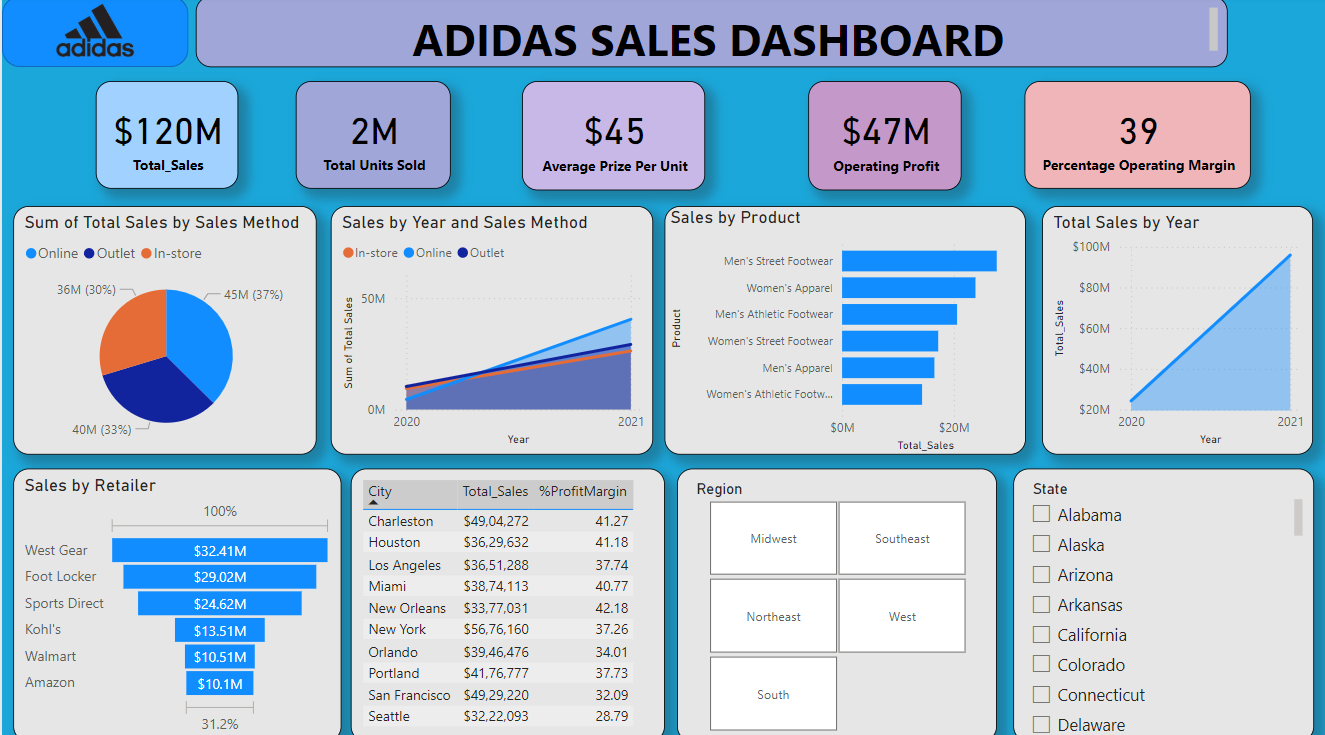

This screenshot's page, from the dashboard's own definition file:
{"tool":"powerbi","page":{"name":"Page 1","canvas":[1280,720],"ordinal":0},"visuals":[{"type":"textbox","box":[187.1,0,995.7,68.6],"z":0},{"type":"card","fields":{"Values":["Sales.Total_Sales"]},"box":[90.6,82.3,137.2,104.3],"z":1000},{"type":"card","fields":{"Values":["Sales.TotalUnitsSold"]},"box":[284,82.3,149.6,104.3],"z":2000},{"type":"card","fields":{"Values":["Sales.AvgPrizePerUnit"]},"box":[502.2,82.3,177,105.7],"z":3000},{"type":"card","fields":{"Values":["Sales.OperatingProfit"]},"box":[778,82.3,148.2,105.7],"z":4000},{"type":"card","fields":{"Values":["Sales.%OperatingMargin"]},"box":[986.6,82.3,218.2,104.3],"z":5000},{"type":"pieChart","fields":{"Category":["Sales.Sales Method"],"Y":["Sum(Sales.Total Sales)"]},"box":[11.4,202.9,292.9,240],"z":6000},{"type":"areaChart","title":" Sales by Year and Sales Method","fields":{"Category":["Date.Date.Variation.Date Hierarchy.Year","Date.Date.Variation.Date Hierarchy.Quarter","Date.Date.Variation.Date Hierarchy.Month","Date.Date.Variation.Date Hierarchy.Day"],"Y":["Sum(Sales.Total Sales)"],"Series":["Sales.Sales Method"]},"box":[317.1,202.9,311.4,240],"z":7000},{"type":"barChart","title":"Sales by Product","fields":{"Category":["Sales.Product"],"Y":["Sales.Total_Sales"]},"box":[640,202.9,348.6,240],"z":8000},{"type":"funnel","title":"Sales by Retailer","fields":{"Y":["Sales.Total_Sales"],"Category":["Sales.Retailer"]},"box":[11.4,455.7,317.1,264.3],"z":9000},{"type":"areaChart","title":"Total Sales by Year","fields":{"Category":["Date.Date.Variation.Date Hierarchy.Year","Date.Date.Variation.Date Hierarchy.Quarter","Date.Date.Variation.Date Hierarchy.Month","Date.Date.Variation.Date Hierarchy.Day"],"Y":["Sales.Total_Sales"]},"box":[1004.3,202.9,261.4,240],"z":10000},{"type":"tableEx","fields":{"Values":["Sales.City","Sales.Total_Sales","Sales.%ProfitMargin"]},"box":[337.1,455.7,302.9,264.3],"z":11000},{"type":"slicer","fields":{"Values":["Sales.Region"]},"box":[651.4,455.7,308.6,264.3],"z":12000},{"type":"slicer","fields":{"Values":["Sales.State"]},"box":[975.7,455.7,290,264.3],"z":13000},{"type":"actionButton","box":[0,0,100,40],"z":14000},{"type":"shape","box":[0,0,180,68.6],"z":15000},{"type":"image","box":[0,0,180,68.6],"z":16000}]}

Visuals, with their boxes in screenshot pixels (x1, y1, x2, y2), scaled from the page's 1280x720 canvas onto the 1325x735 screenshot:
textbox: Rect(194, 0, 1224, 70)
card - Sales.Total_Sales: Rect(94, 84, 236, 190)
card - Sales.TotalUnitsSold: Rect(294, 84, 449, 190)
card - Sales.AvgPrizePerUnit: Rect(520, 84, 703, 192)
card - Sales.OperatingProfit: Rect(805, 84, 959, 192)
card - Sales.%OperatingMargin: Rect(1021, 84, 1247, 190)
pieChart - Sales.Sales Method x Sum(Sales.Total Sales): Rect(12, 207, 315, 452)
" Sales by Year and Sales Method" areaChart: Rect(328, 207, 651, 452)
"Sales by Product" barChart: Rect(662, 207, 1023, 452)
"Sales by Retailer" funnel: Rect(12, 465, 340, 734)
"Total Sales by Year" areaChart: Rect(1040, 207, 1310, 452)
tableEx - Sales.City x Sales.Total_Sales: Rect(349, 465, 662, 734)
slicer - Sales.Region: Rect(674, 465, 994, 734)
slicer - Sales.State: Rect(1010, 465, 1310, 734)
actionButton: Rect(0, 0, 104, 41)
shape: Rect(0, 0, 186, 70)
image: Rect(0, 0, 186, 70)
